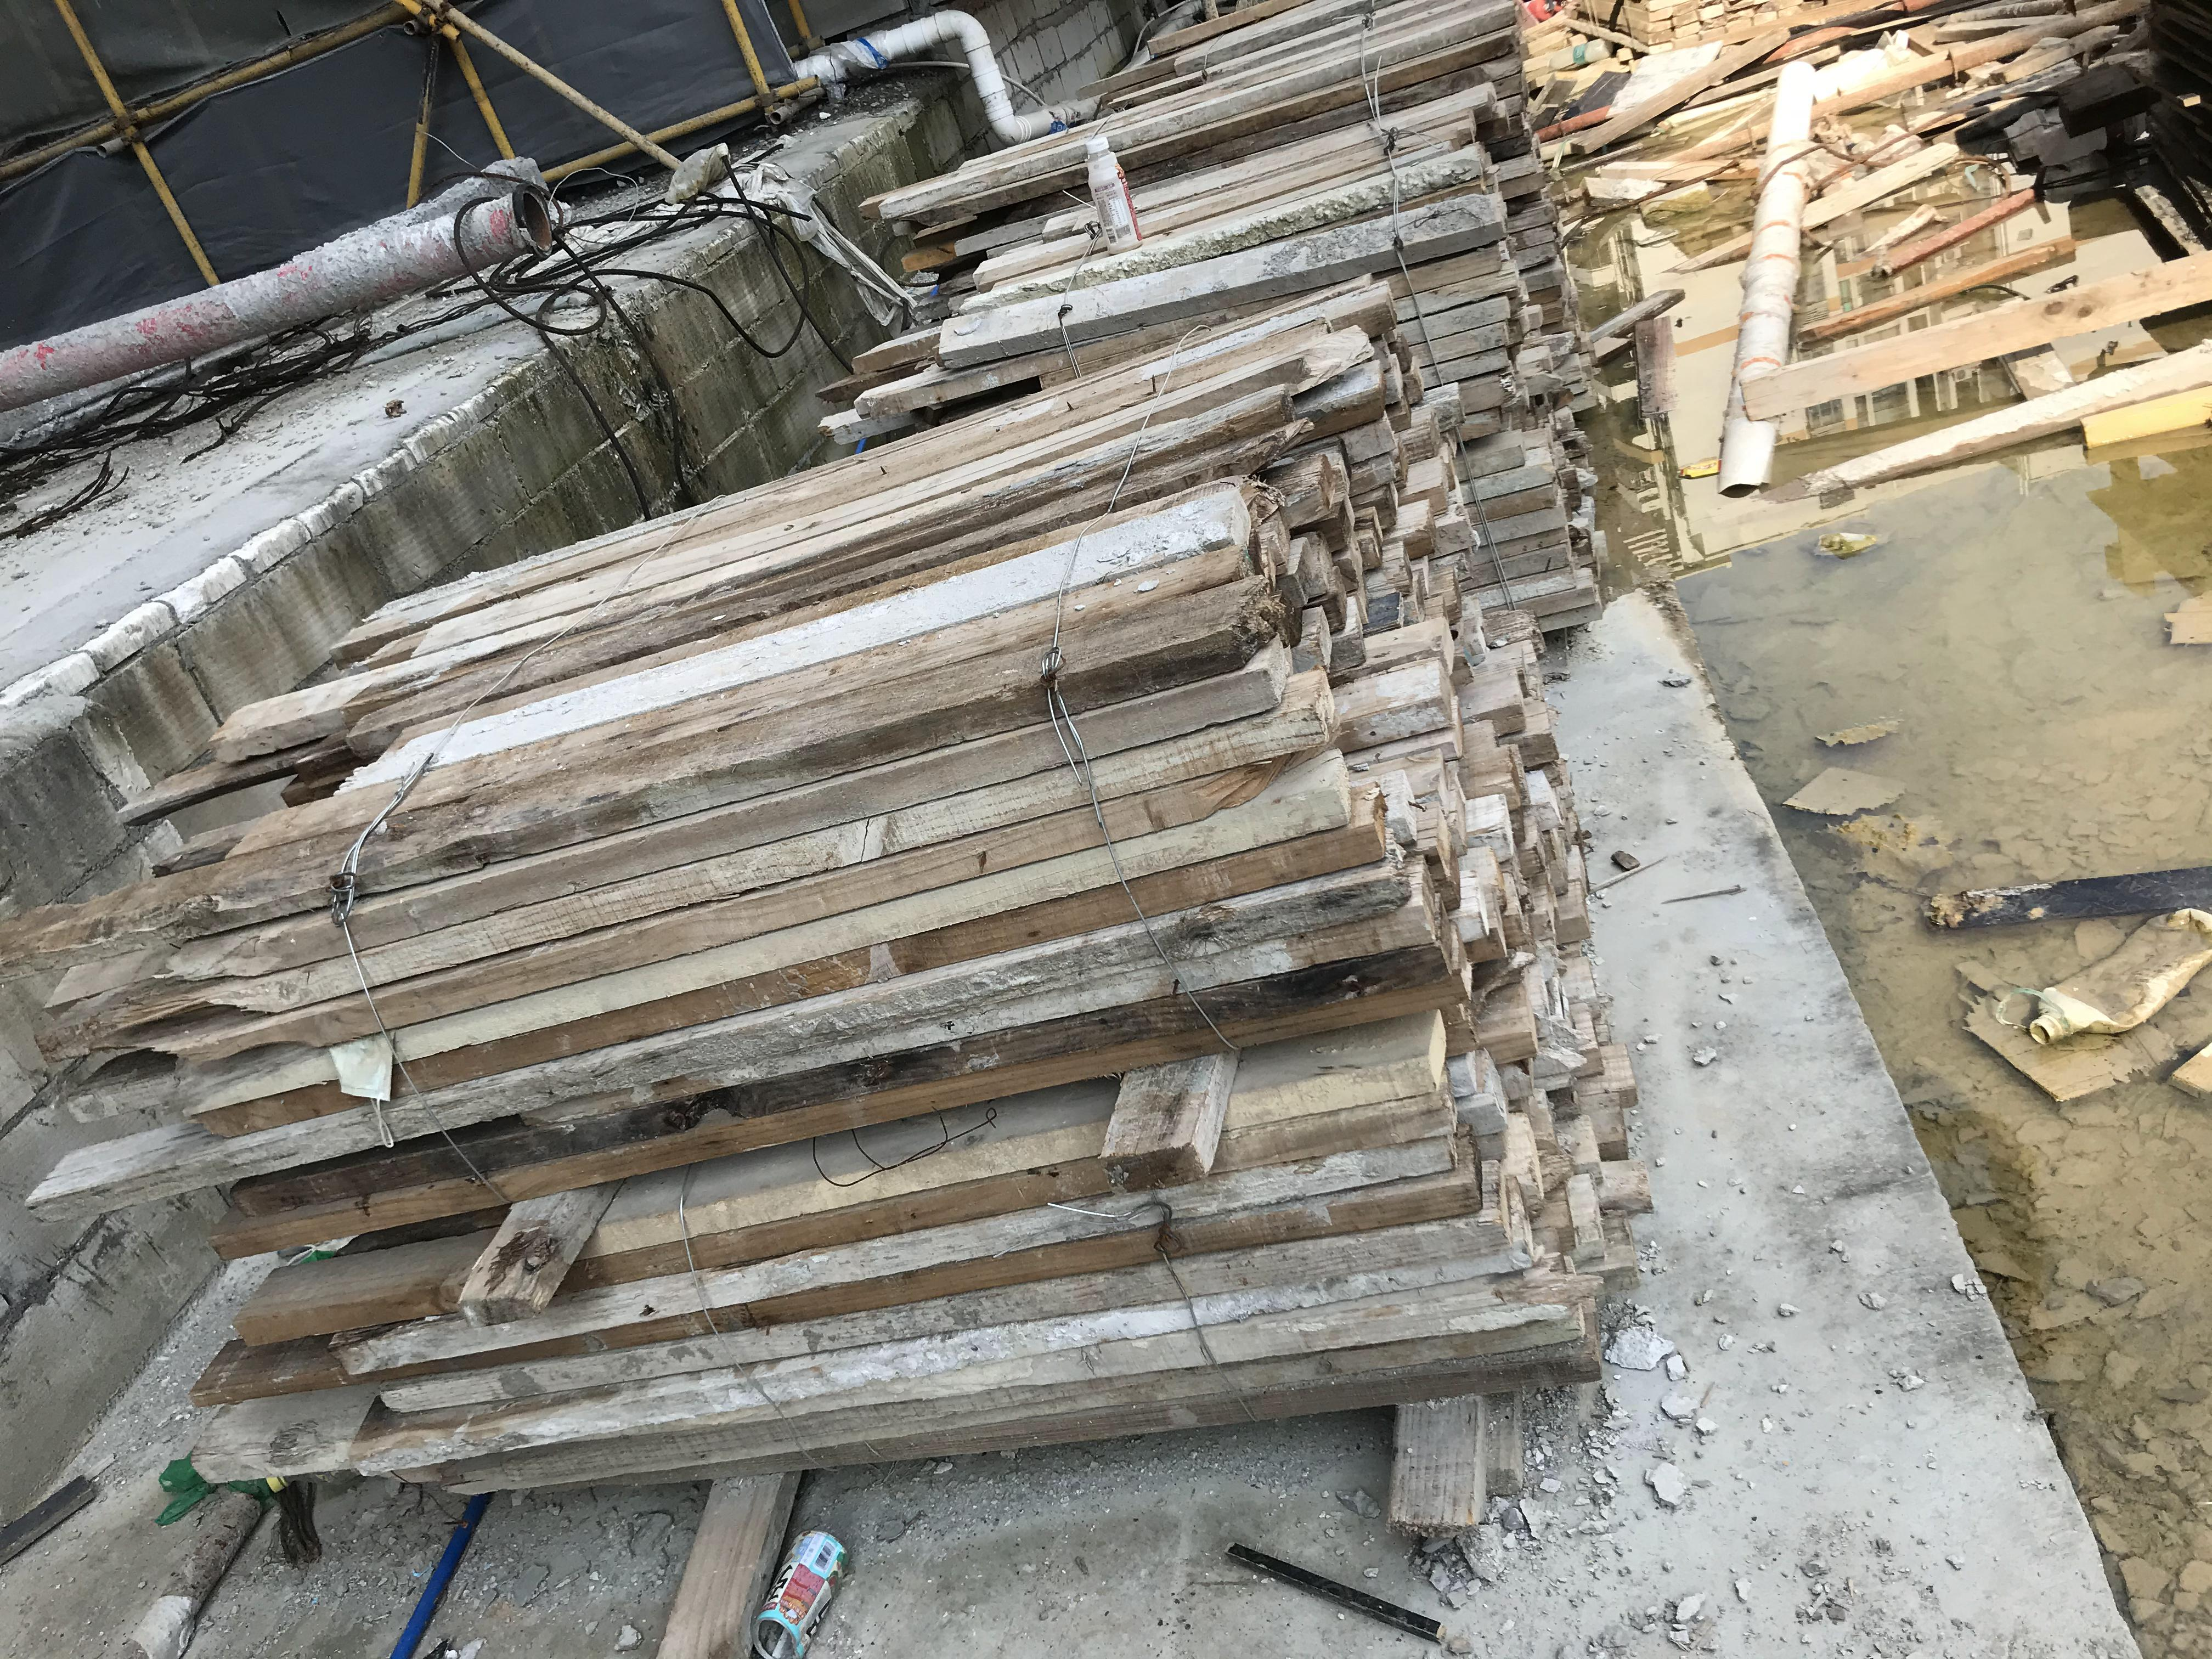wood: (71, 286, 1622, 1523), (862, 0, 1597, 619)
